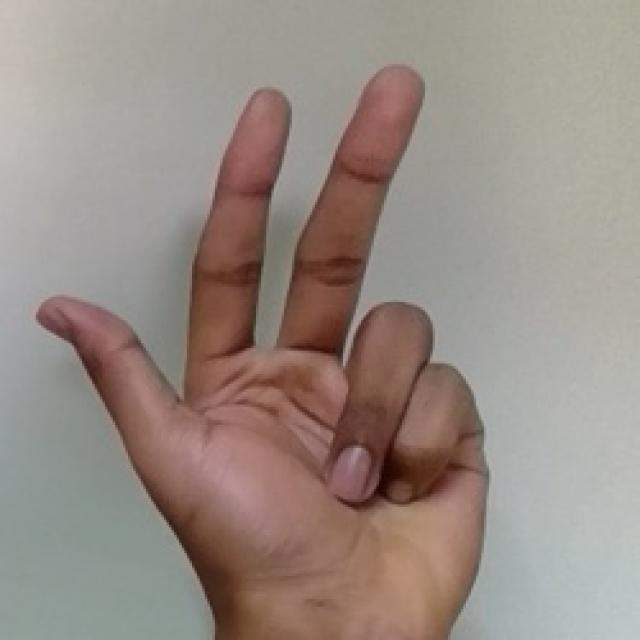Numeric-3: (38, 62, 485, 617)
